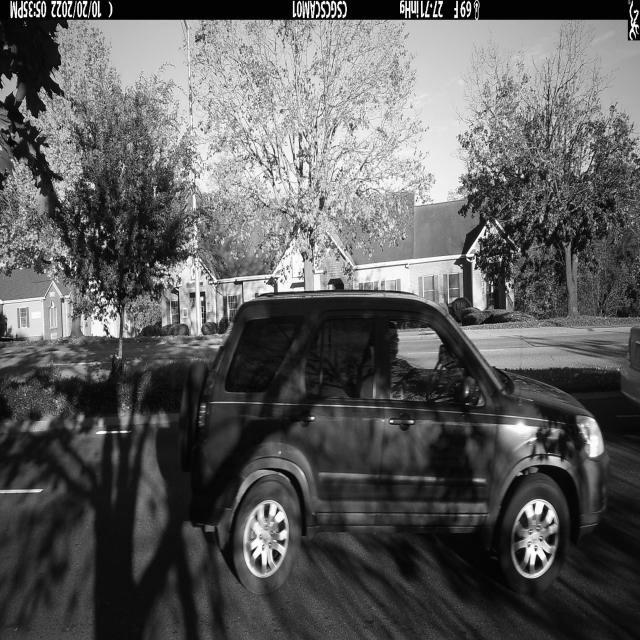SUV: (176, 292, 605, 594)
